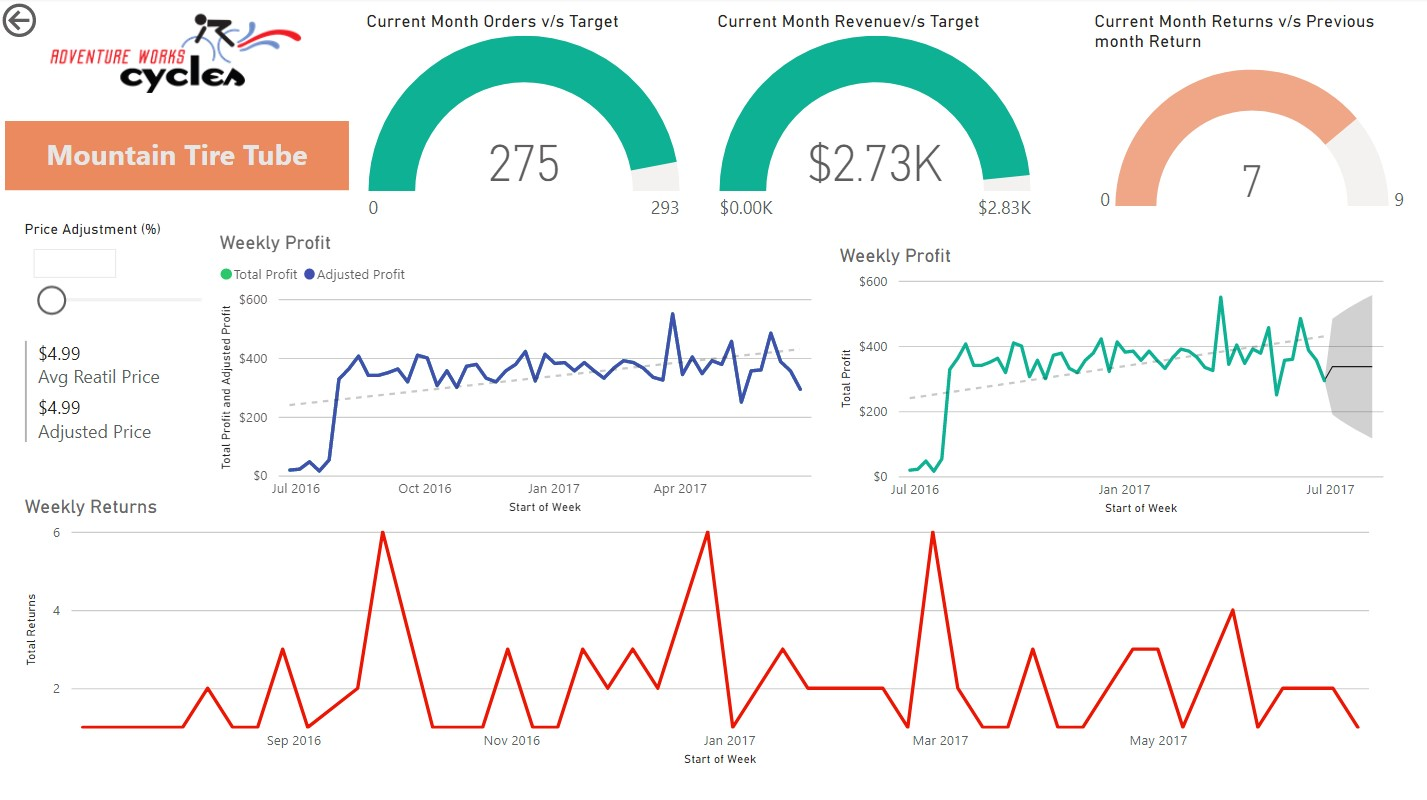

This screenshot's page, from the dashboard's own definition file:
{"tool":"powerbi","page":{"name":"Products","canvas":[1280,720],"ordinal":1},"visuals":[{"type":"image","box":[42.7,0,237.3,99.1],"z":0},{"type":"lineChart","title":"Weekly Returns","fields":{"Category":["AW_Calendar.Start of Week"],"Y":["AW_Returns.Total Returns"]},"box":[20,445.5,1230,247.3],"z":1000},{"type":"lineChart","title":"Weekly Profit","fields":{"Y":["AW_Sales.Total Profit"],"Category":["AW_Calendar.Start of Week"]},"box":[750,220,509.1,247.3],"z":2000},{"type":"gauge","title":"Current Month Orders v/s Target","fields":{"Y":["AW_Sales.Total Orders"],"MaxValue":["AW_Sales.Order Target"]},"box":[326.4,10.9,291.8,198.2],"z":3000},{"type":"gauge","title":"Current Month Revenuev/s Target","fields":{"Y":["AW_Sales.Total Revenue"],"MaxValue":["AW_Sales.Revenue target"]},"box":[640,10.9,291.8,198.2],"z":4000},{"type":"gauge","title":"Current Month Returns v/s Previous month Return","fields":{"Y":["AW_Returns.Total Returns"],"MaxValue":["AW_Returns.Prev Month Returns"]},"box":[978.2,10.9,291.8,198.2],"z":5000},{"type":"card","fields":{"Values":["Min(AW_Product_Lookup.ProductName)"]},"box":[7.3,110,308.2,61.8],"z":6000},{"type":"actionButton","box":[0,0,100,40],"z":7000},{"type":"slicer","title":"Price Adjustment (%)","fields":{"Values":["Price Adjustment (%).Price Adjustment (%)"]},"box":[20,200,186.4,101.8],"z":8000},{"type":"multiRowCard","fields":{"Values":["AW_Product_Lookup.Avg Reatil Price","AW_Product_Lookup.Adjusted Price"]},"box":[20,301.8,181.8,105.5],"z":9000},{"type":"lineChart","title":"Weekly Profit","fields":{"Category":["AW_Calendar.Start of Week"],"Y":["AW_Sales.Total Profit","AW_Sales.Adjusted Profit"]},"box":[194.5,209.1,555.5,258.2],"z":10000}]}

Visuals, with their boxes in screenshot pixels (x1, y1, x2, y2), scaled from the page's 1280x720 canvas onto the 1427x800 screenshot:
image: 48/0/312/110
"Weekly Returns" lineChart: 22/495/1394/770
"Weekly Profit" lineChart: 836/244/1404/519
"Current Month Orders v/s Target" gauge: 364/12/689/232
"Current Month Revenuev/s Target" gauge: 714/12/1039/232
"Current Month Returns v/s Previous month Return" gauge: 1091/12/1416/232
card - Min(AW_Product_Lookup.ProductName): 8/122/352/191
actionButton: 0/0/111/44
"Price Adjustment (%)" slicer: 22/222/230/335
multiRowCard - AW_Product_Lookup.Avg Reatil Price x AW_Product_Lookup.Adjusted Price: 22/335/225/453
"Weekly Profit" lineChart: 217/232/836/519
